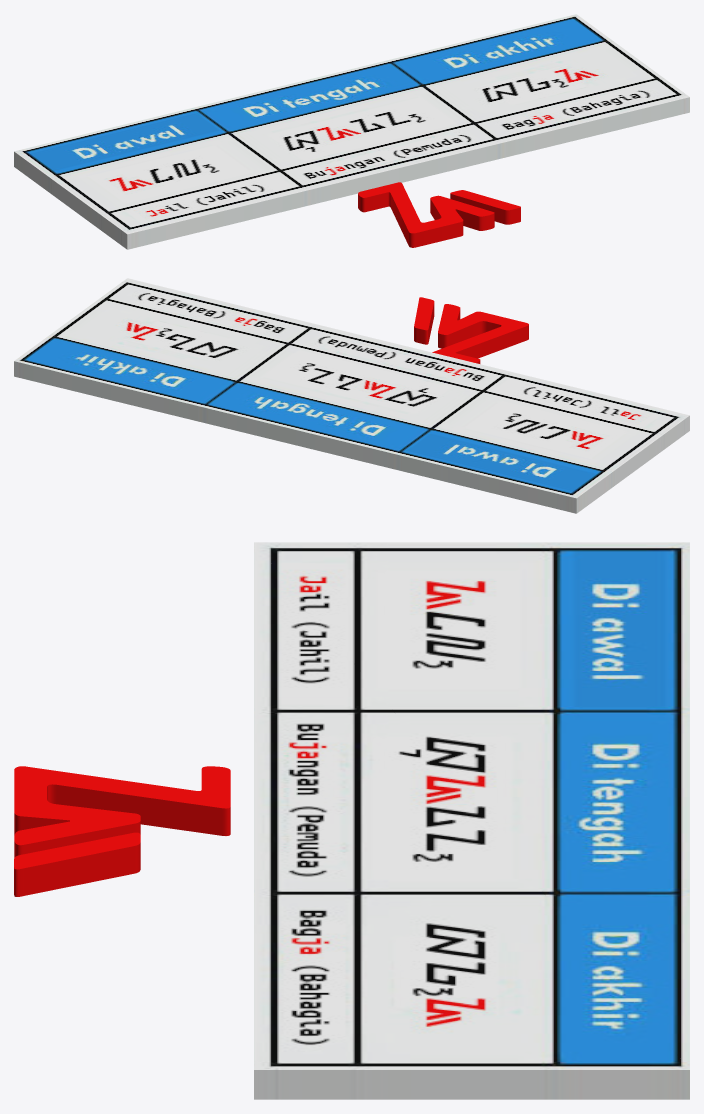
The picture shows the model from 3 angles, top to bottom: view 1: azimuth 30°, elevation 25°; view 2: azimuth 150°, elevation 25°; view 3: azimuth 270°, elevation 25°; orthographic projection. The views are drawn at different scales.
Parts seen in each view (by area): view 1: contoh-bunyi-huruf-ja-Ngalagena, Text; view 2: contoh-bunyi-huruf-ja-Ngalagena, Text; view 3: contoh-bunyi-huruf-ja-Ngalagena, Text.
Part boxes in pixels (x1,y1,x2,y2): contoh-bunyi-huruf-ja-Ngalagena: (14, 14, 689, 249); Text: (358, 182, 520, 247); contoh-bunyi-huruf-ja-Ngalagena: (14, 278, 689, 513); Text: (414, 297, 528, 363); contoh-bunyi-huruf-ja-Ngalagena: (254, 542, 689, 1099); Text: (14, 766, 230, 896).
Size of the model in its own units: 2.86 by 0.11 by 1.55.
2 materials, 1 textured.
